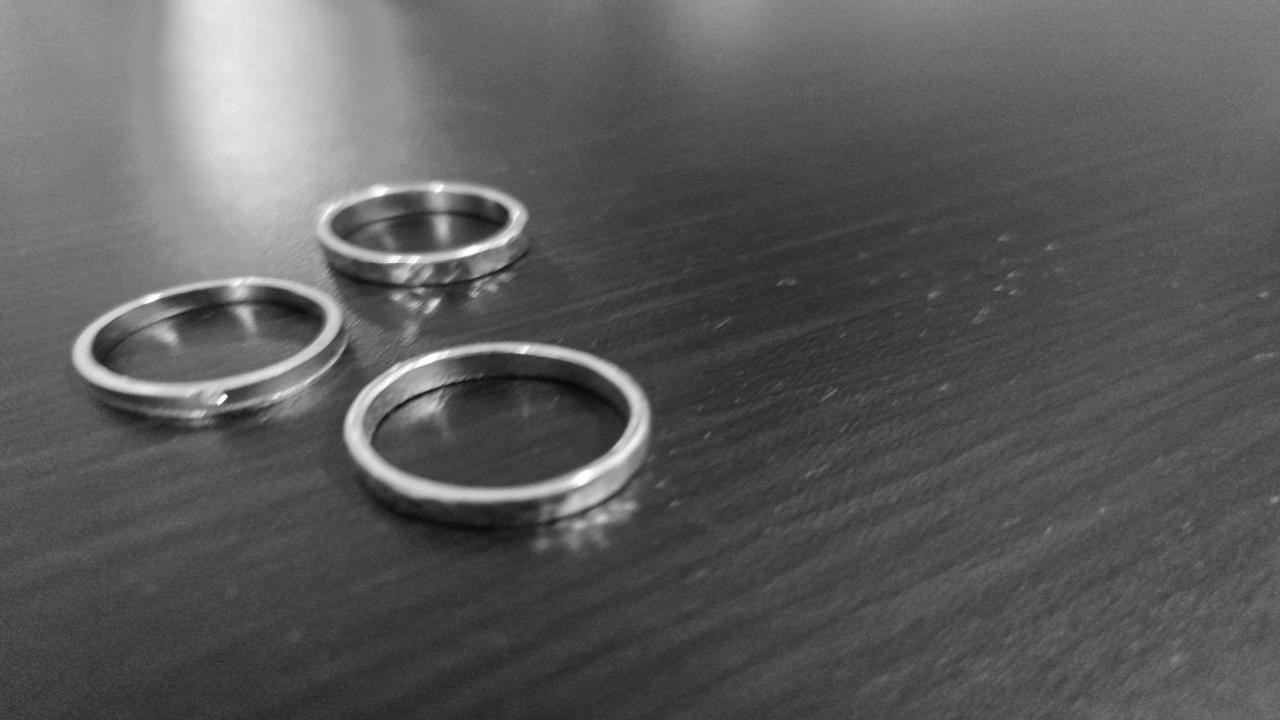ring: (340, 340, 651, 526), (69, 276, 352, 423), (314, 180, 537, 288)
